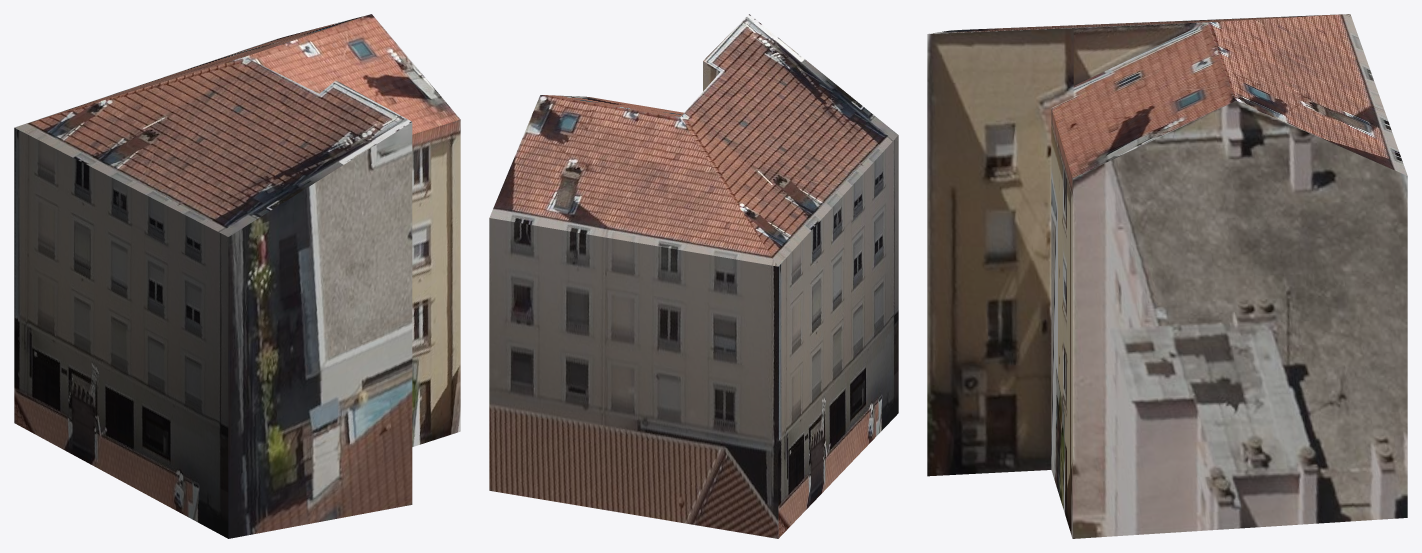
3 views of the same model, side by side, from view 1: azimuth 30°, elevation 25°; view 2: azimuth 150°, elevation 25°; view 3: azimuth 270°, elevation 25° (orthographic). The views are drawn at different scales.
Parts seen in each view (by area): view 1: Z_UP; view 2: Z_UP; view 3: Z_UP.
Boxes of the visible parts, left/top/right/bottom form: Z_UP: left=14, top=14, right=460, bottom=538; Z_UP: left=489, top=14, right=898, bottom=538; Z_UP: left=927, top=14, right=1407, bottom=538.
Bounding box in the file's own units: 15.51 × 17.4 × 17.13.
2 materials, 1 textured.
